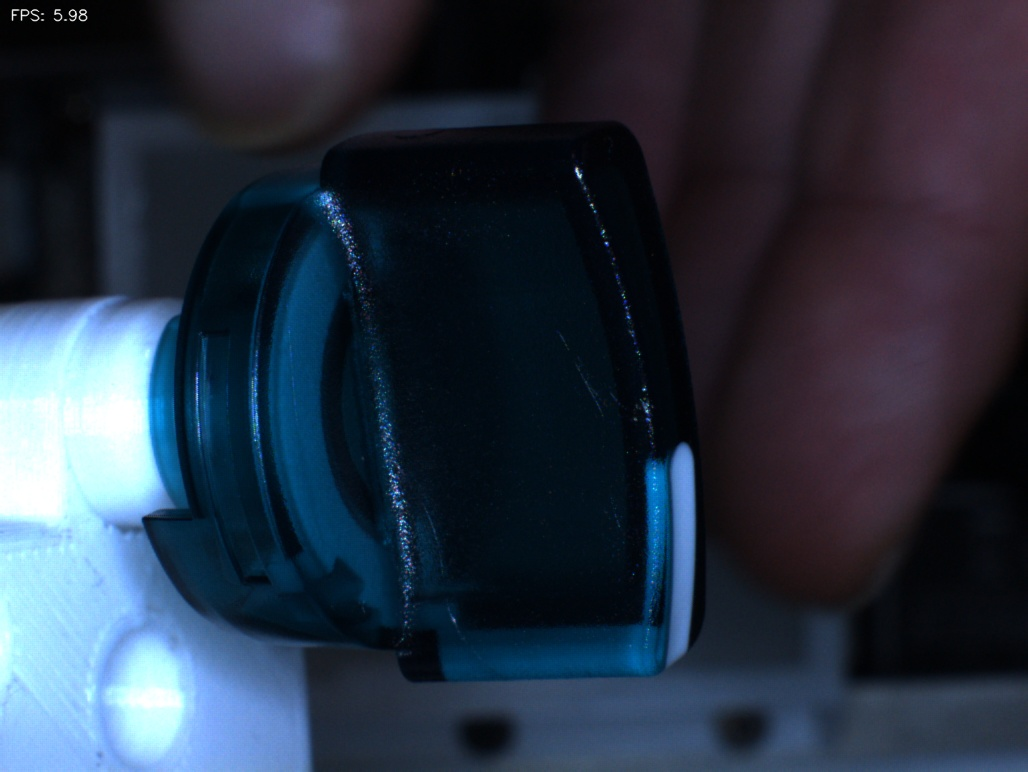Givrage: (402, 478, 487, 657), (535, 309, 621, 429)
